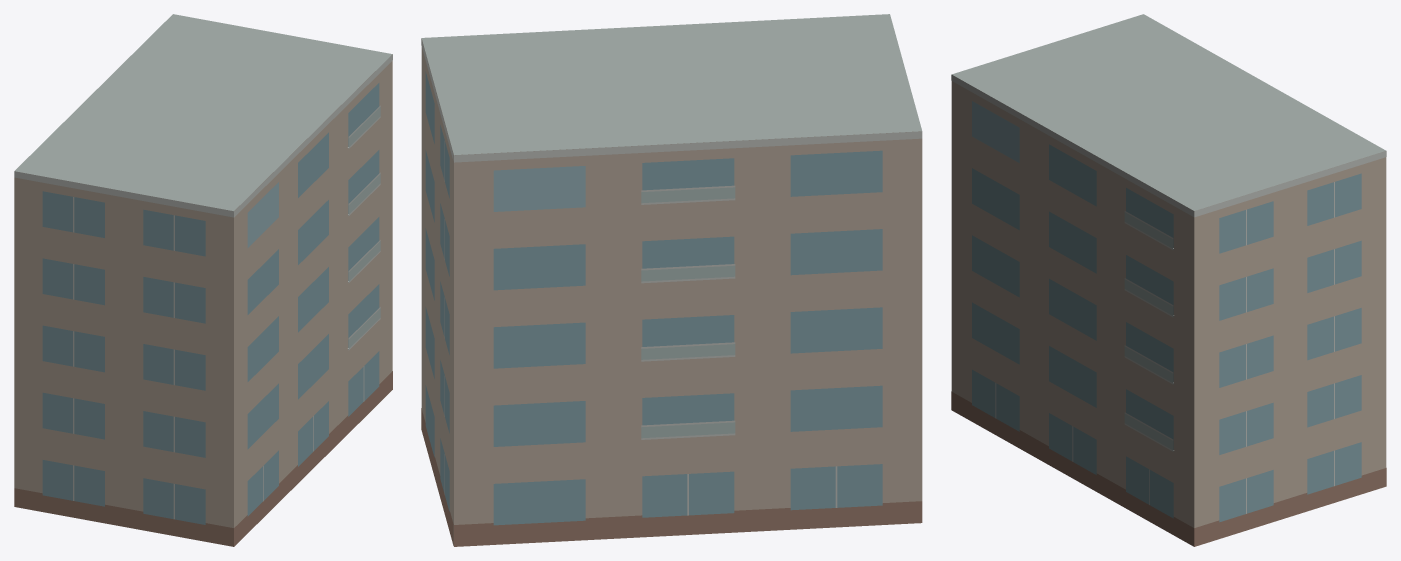
Rendered from survey-upis-32882558.glb.
The picture shows the model from 3 angles, left to right: view 1: azimuth 30°, elevation 25°; view 2: azimuth 150°, elevation 25°; view 3: azimuth 270°, elevation 25°; orthographic projection. The views are drawn at different scales.
Parts seen in each view (by area): view 1: survey-upis-32882558.tmp; view 2: survey-upis-32882558.tmp; view 3: survey-upis-32882558.tmp.
Part boxes in pixels (x1,y1,x2,y2): survey-upis-32882558.tmp: (14,14,392,546); survey-upis-32882558.tmp: (421,14,922,546); survey-upis-32882558.tmp: (951,14,1386,546).
Size of the model in its own units: 16.3 by 12.94 by 15.2.
